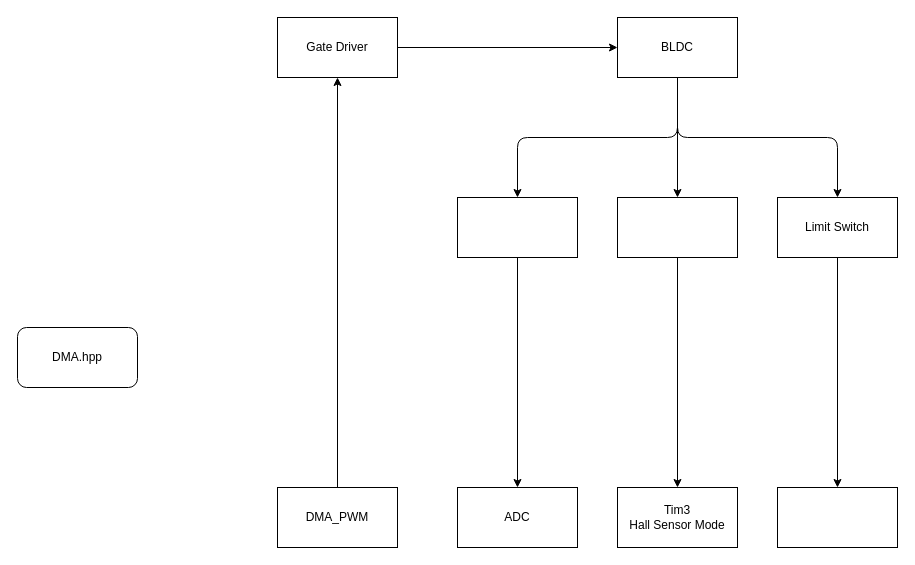
The diagram is 915 pixels wide and 565 high, and some of its shapes have lost their labels. The centre of each missing label's shape, as x and y in pixels:
"Current(shant)" belongs at [517,227].
"GPIO Interrpt" belongs at [837,517].
"Hall sensor" belongs at [677,227].
